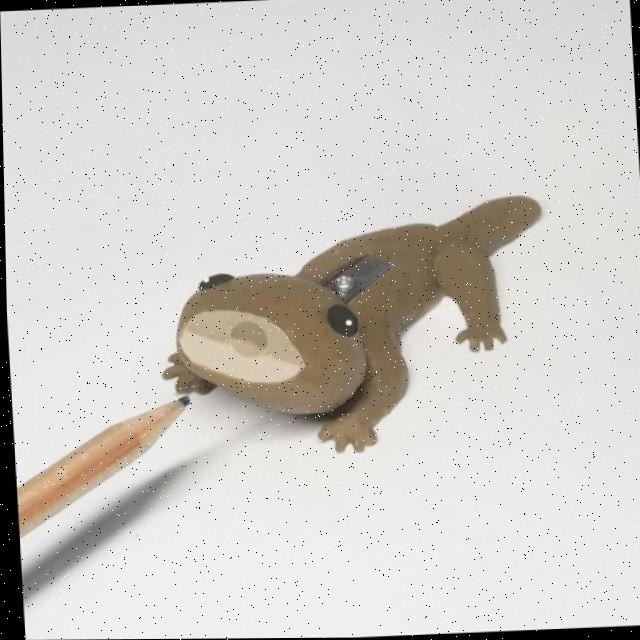pencil: (14, 394, 195, 541)
